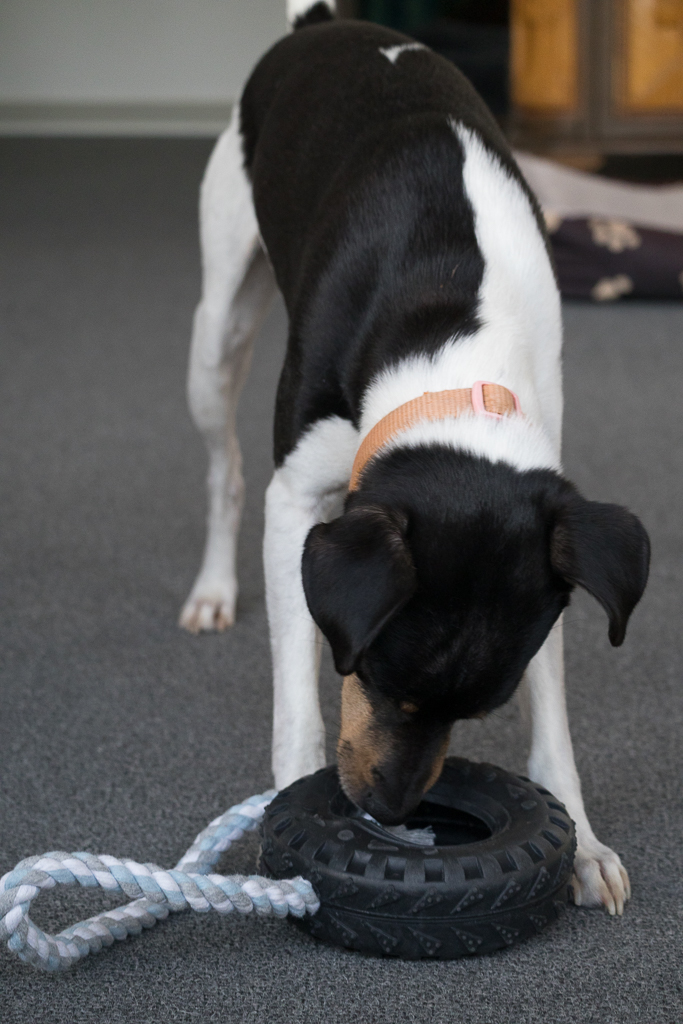Dog: (168, 0, 662, 926)
